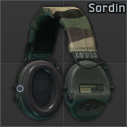MSA Sordin Supreme PRO-X%5L active headset: (0, 0, 127, 127)
